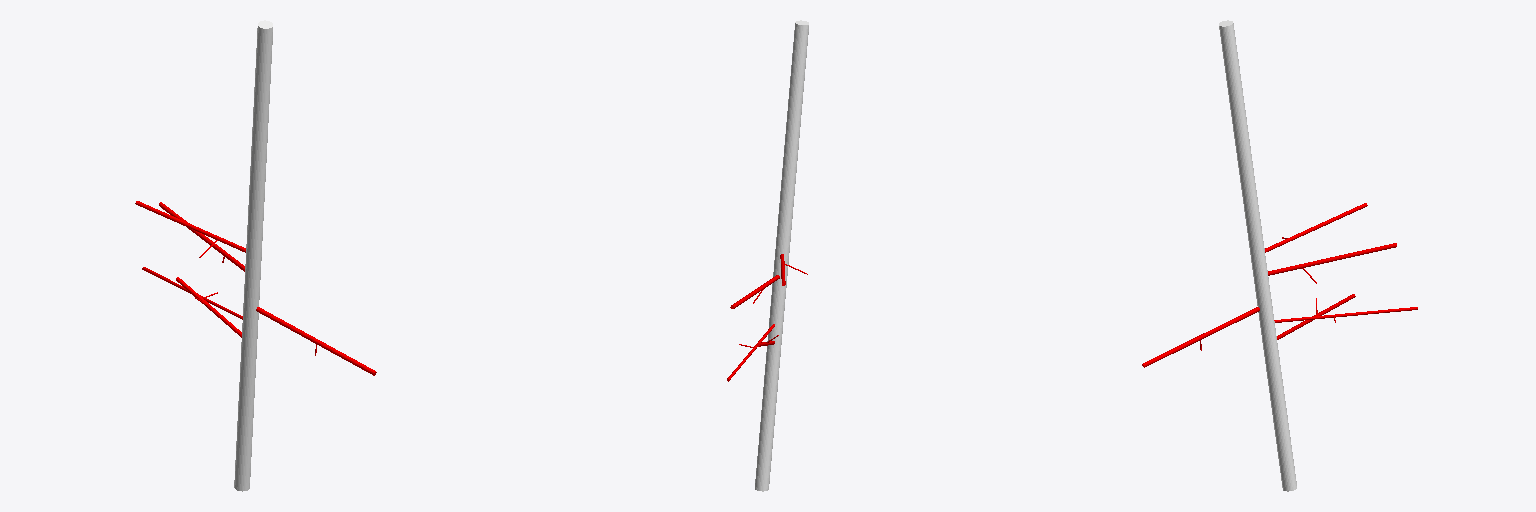
The robot description file, URDF, robot "tree_164.urdf":
<?xml version='1.0' encoding='UTF-8'?>
<robot name="tree_164.urdf">
  <link name="branch_0">
    <inertial>
      <origin xyz="0.0 0.0 0.0" rpy="0.0 -0.0 0.0"/>
      <mass value="0.1"/>
      <inertia ixx="0.001" ixy="0.0" ixz="0.0" iyy="0.001" iyz="0.0" izz="0.001"/>
    </inertial>
    <visual name="branch_0_visual">
      <geometry>
        <cylinder radius="0.11098331672099711" length="7.654445705625493"/>
      </geometry>
      <material name="branch_material"/>
      <origin xyz="-0.08490809292328688 -0.47804112589293124 3.7963011027582207" rpy="1.0408340855860843e-17 0.12720318717836648 -1.746579816537092"/>
    </visual>
    <collision name="branch_0_collision">
      <geometry>
        <cylinder radius="0.11098331672099711" length="7.654445705625493"/>
      </geometry>
      <origin xyz="-0.08490809292328688 -0.47804112589293124 3.7963011027582207" rpy="1.0408340855860843e-17 0.12720318717836648 -1.746579816537092"/>
    </collision>
  </link>
  <link name="branch_1">
    <inertial>
      <origin xyz="0.0 0.0 0.0" rpy="0.0 -0.0 0.0"/>
      <mass value="0.1"/>
      <inertia ixx="0.001" ixy="0.0" ixz="0.0" iyy="0.001" iyz="0.0" izz="0.001"/>
    </inertial>
    <visual name="branch_1_visual">
      <geometry>
        <cylinder radius="0.03021719434408781" length="1.9257311890806732"/>
      </geometry>
      <material name="semantic_material"/>
      <origin xyz="0.0 0.0 0.0" rpy="0.0 -0.0 0.0"/>
    </visual>
    <collision name="branch_1_collision">
      <geometry>
        <cylinder radius="0.03021719434408781" length="1.9257311890806732"/>
      </geometry>
      <origin xyz="0.0 0.0 0.0" rpy="0.0 -0.0 0.0"/>
    </collision>
  </link>
  <link name="branch_2">
    <inertial>
      <origin xyz="0.0 0.0 0.0" rpy="0.0 -0.0 0.0"/>
      <mass value="0.1"/>
      <inertia ixx="0.001" ixy="0.0" ixz="0.0" iyy="0.001" iyz="0.0" izz="0.001"/>
    </inertial>
    <visual name="branch_2_visual">
      <geometry>
        <cylinder radius="0.01" length="0.4262129596066647"/>
      </geometry>
      <material name="semantic_material"/>
      <origin xyz="0.0 0.0 0.0" rpy="0.0 -0.0 0.0"/>
    </visual>
    <collision name="branch_2_collision">
      <geometry>
        <cylinder radius="0.01" length="0.4262129596066647"/>
      </geometry>
      <origin xyz="0.0 0.0 0.0" rpy="0.0 -0.0 0.0"/>
    </collision>
  </link>
  <link name="branch_3">
    <inertial>
      <origin xyz="0.0 0.0 0.0" rpy="0.0 -0.0 0.0"/>
      <mass value="0.1"/>
      <inertia ixx="0.001" ixy="0.0" ixz="0.0" iyy="0.001" iyz="0.0" izz="0.001"/>
    </inertial>
    <visual name="branch_3_visual">
      <geometry>
        <cylinder radius="0.03536105921602271" length="2.1255072905943715"/>
      </geometry>
      <material name="semantic_material"/>
      <origin xyz="0.0 0.0 0.0" rpy="0.0 -0.0 0.0"/>
    </visual>
    <collision name="branch_3_collision">
      <geometry>
        <cylinder radius="0.03536105921602271" length="2.1255072905943715"/>
      </geometry>
      <origin xyz="0.0 0.0 0.0" rpy="0.0 -0.0 0.0"/>
    </collision>
  </link>
  <link name="branch_4">
    <inertial>
      <origin xyz="0.0 0.0 0.0" rpy="0.0 -0.0 0.0"/>
      <mass value="0.1"/>
      <inertia ixx="0.001" ixy="0.0" ixz="0.0" iyy="0.001" iyz="0.0" izz="0.001"/>
    </inertial>
    <visual name="branch_4_visual">
      <geometry>
        <cylinder radius="0.01" length="0.22511965947349874"/>
      </geometry>
      <material name="semantic_material"/>
      <origin xyz="0.0 0.0 0.0" rpy="0.0 -0.0 0.0"/>
    </visual>
    <collision name="branch_4_collision">
      <geometry>
        <cylinder radius="0.01" length="0.22511965947349874"/>
      </geometry>
      <origin xyz="0.0 0.0 0.0" rpy="0.0 -0.0 0.0"/>
    </collision>
  </link>
  <link name="branch_5">
    <inertial>
      <origin xyz="0.0 0.0 0.0" rpy="0.0 -0.0 0.0"/>
      <mass value="0.1"/>
      <inertia ixx="0.001" ixy="0.0" ixz="0.0" iyy="0.001" iyz="0.0" izz="0.001"/>
    </inertial>
    <visual name="branch_5_visual">
      <geometry>
        <cylinder radius="0.0235059224896534" length="2.2913495461040743"/>
      </geometry>
      <material name="semantic_material"/>
      <origin xyz="0.0 0.0 0.0" rpy="0.0 -0.0 0.0"/>
    </visual>
    <collision name="branch_5_collision">
      <geometry>
        <cylinder radius="0.0235059224896534" length="2.2913495461040743"/>
      </geometry>
      <origin xyz="0.0 0.0 0.0" rpy="0.0 -0.0 0.0"/>
    </collision>
  </link>
  <link name="branch_6">
    <inertial>
      <origin xyz="0.0 0.0 0.0" rpy="0.0 -0.0 0.0"/>
      <mass value="0.1"/>
      <inertia ixx="0.001" ixy="0.0" ixz="0.0" iyy="0.001" iyz="0.0" izz="0.001"/>
    </inertial>
    <visual name="branch_6_visual">
      <geometry>
        <cylinder radius="0.01" length="0.25660938121239674"/>
      </geometry>
      <material name="semantic_material"/>
      <origin xyz="0.0 0.0 0.0" rpy="0.0 -0.0 0.0"/>
    </visual>
    <collision name="branch_6_collision">
      <geometry>
        <cylinder radius="0.01" length="0.25660938121239674"/>
      </geometry>
      <origin xyz="0.0 0.0 0.0" rpy="0.0 -0.0 0.0"/>
    </collision>
  </link>
  <link name="branch_7">
    <inertial>
      <origin xyz="0.0 0.0 0.0" rpy="0.0 -0.0 0.0"/>
      <mass value="0.1"/>
      <inertia ixx="0.001" ixy="0.0" ixz="0.0" iyy="0.001" iyz="0.0" izz="0.001"/>
    </inertial>
    <visual name="branch_7_visual">
      <geometry>
        <cylinder radius="0.0301226949316142" length="1.459248989172049"/>
      </geometry>
      <material name="semantic_material"/>
      <origin xyz="0.0 0.0 0.0" rpy="0.0 -0.0 0.0"/>
    </visual>
    <collision name="branch_7_collision">
      <geometry>
        <cylinder radius="0.0301226949316142" length="1.459248989172049"/>
      </geometry>
      <origin xyz="0.0 0.0 0.0" rpy="0.0 -0.0 0.0"/>
    </collision>
  </link>
  <link name="branch_8">
    <inertial>
      <origin xyz="0.0 0.0 0.0" rpy="0.0 -0.0 0.0"/>
      <mass value="0.1"/>
      <inertia ixx="0.001" ixy="0.0" ixz="0.0" iyy="0.001" iyz="0.0" izz="0.001"/>
    </inertial>
    <visual name="branch_8_visual">
      <geometry>
        <cylinder radius="0.01" length="0.3020627381023402"/>
      </geometry>
      <material name="semantic_material"/>
      <origin xyz="0.0 0.0 0.0" rpy="0.0 -0.0 0.0"/>
    </visual>
    <collision name="branch_8_collision">
      <geometry>
        <cylinder radius="0.01" length="0.3020627381023402"/>
      </geometry>
      <origin xyz="0.0 0.0 0.0" rpy="0.0 -0.0 0.0"/>
    </collision>
  </link>
  <link name="branch_9">
    <inertial>
      <origin xyz="0.0 0.0 0.0" rpy="0.0 -0.0 0.0"/>
      <mass value="0.1"/>
      <inertia ixx="0.001" ixy="0.0" ixz="0.0" iyy="0.001" iyz="0.0" izz="0.001"/>
    </inertial>
    <visual name="branch_9_visual">
      <geometry>
        <cylinder radius="0.03340833397718543" length="2.092103015324754"/>
      </geometry>
      <material name="semantic_material"/>
      <origin xyz="0.0 0.0 0.0" rpy="0.0 -0.0 0.0"/>
    </visual>
    <collision name="branch_9_collision">
      <geometry>
        <cylinder radius="0.03340833397718543" length="2.092103015324754"/>
      </geometry>
      <origin xyz="0.0 0.0 0.0" rpy="0.0 -0.0 0.0"/>
    </collision>
  </link>
  <link name="branch_10">
    <inertial>
      <origin xyz="0.0 0.0 0.0" rpy="0.0 -0.0 0.0"/>
      <mass value="0.1"/>
      <inertia ixx="0.001" ixy="0.0" ixz="0.0" iyy="0.001" iyz="0.0" izz="0.001"/>
    </inertial>
    <visual name="branch_10_visual">
      <geometry>
        <cylinder radius="0.011027923315715239" length="0.3518755246183118"/>
      </geometry>
      <material name="semantic_material"/>
      <origin xyz="0.0 0.0 0.0" rpy="0.0 -0.0 0.0"/>
    </visual>
    <collision name="branch_10_collision">
      <geometry>
        <cylinder radius="0.011027923315715239" length="0.3518755246183118"/>
      </geometry>
      <origin xyz="0.0 0.0 0.0" rpy="0.0 -0.0 0.0"/>
    </collision>
  </link>
  <joint name="joint_0_1" type="fixed">
    <parent link="branch_0"/>
    <child link="branch_1"/>
    <axis xyz="1. 0. 0."/>
    <origin xyz="-0.5678972567766861 0.33087968953744096 4.010333274129707" rpy="-0.40242196919172046 1.3607248311293059 1.695974881731045"/>
  </joint>
  <joint name="joint_0_3" type="fixed">
    <parent link="branch_0"/>
    <child link="branch_3"/>
    <axis xyz="1. 0. 0."/>
    <origin xyz="0.41218911198417174 -1.284797042694688 2.7110590122541676" rpy="2.8508354135298686 1.3017795395140093 1.7545417694964338"/>
  </joint>
  <joint name="joint_0_5" type="fixed">
    <parent link="branch_0"/>
    <child link="branch_5"/>
    <axis xyz="1. 0. 0."/>
    <origin xyz="-0.2792890486498291 0.7829356323258979 2.7262178645952133" rpy="-1.321544644798087 1.5234433977825304 0.4409908093233631"/>
  </joint>
  <joint name="joint_0_7" type="fixed">
    <parent link="branch_0"/>
    <child link="branch_7"/>
    <axis xyz="1. 0. 0."/>
    <origin xyz="-0.2730156729331883 0.33376367601577706 2.6728922832304094" rpy="-0.15040847323974693 1.1633322632445704 1.7405145884462274"/>
  </joint>
  <joint name="joint_0_9" type="fixed">
    <parent link="branch_0"/>
    <child link="branch_9"/>
    <axis xyz="1. 0. 0."/>
    <origin xyz="-0.23830523498739065 0.5802954014341934 3.656421380796048" rpy="-0.23752347384592096 1.3964674014785894 1.4860240634793347"/>
  </joint>
  <joint name="joint_1_2" type="fixed">
    <parent link="branch_0"/>
    <child link="branch_2"/>
    <axis xyz="1. 0. 0."/>
    <origin xyz="-0.5619663728257539 -0.05881054677166425 3.859592905893982" rpy="1.9454423810698795 0.24844237544506423 -1.1730373472756286"/>
  </joint>
  <joint name="joint_3_4" type="fixed">
    <parent link="branch_0"/>
    <child link="branch_4"/>
    <axis xyz="1. 0. 0."/>
    <origin xyz="0.43274481886458405 -1.334605493879107 2.5823969274066387" rpy="-3.097630619200137 -0.08436933596111951 2.0633490494358404"/>
  </joint>
  <joint name="joint_5_6" type="fixed">
    <parent link="branch_0"/>
    <child link="branch_6"/>
    <axis xyz="1. 0. 0."/>
    <origin xyz="-0.12656827690966813 0.6674219151169107 2.7307426993213633" rpy="-1.5233177274467895 0.014866822930383893 -1.445287911236602"/>
  </joint>
  <joint name="joint_7_8" type="fixed">
    <parent link="branch_0"/>
    <child link="branch_8"/>
    <axis xyz="1. 0. 0."/>
    <origin xyz="-0.4120613222193561 0.39878960703231403 2.802724811092785" rpy="0.8583880096200639 0.10992413413692821 -1.6188471403992997"/>
  </joint>
  <joint name="joint_9_10" type="fixed">
    <parent link="branch_0"/>
    <child link="branch_10"/>
    <axis xyz="1. 0. 0."/>
    <origin xyz="-0.12594638095107774 0.2872971120955293 3.462604961243152" rpy="-2.601596540927676 0.618671765435774 -1.158925645664224"/>
  </joint>
  <material name="branch_material">
    <color rgba="1. 1. 1. 1."/>
  </material>
  <material name="semantic_material">
    <color rgba="1. 0. 0. 1."/>
  </material>
</robot>

--- Facts derived from the render (not from the file) ---
The picture shows the robot from 3 angles, left to right: view 1: azimuth 30°, elevation 25°; view 2: azimuth 150°, elevation 25°; view 3: azimuth 270°, elevation 25°; orthographic projection.
Robot: tree_164.urdf — 11 links, 10 joints (10 fixed); root link branch_0; default pose: all joints at 0.
Links seen in each view (by area): view 1: branch_0, branch_3; view 2: branch_0; view 3: branch_0, branch_3, branch_9.
Boxes of the visible links, x1,y1,x2,y2 form: branch_0: [234, 20, 272, 491]; branch_3: [256, 307, 376, 375]; branch_0: [755, 20, 808, 491]; branch_0: [1219, 20, 1296, 491]; branch_3: [1142, 307, 1259, 367]; branch_9: [1268, 243, 1396, 275].
Bounding box of the posed robot: 2 × 4.12 × 7.62 m (x, y, z).
Geometry: primitives only (box / cylinder / sphere), no mesh files.
